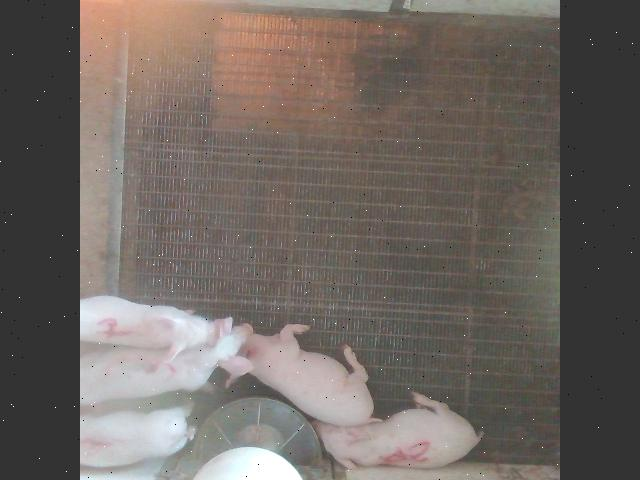pig-1: (81, 406, 195, 465)
pig-3: (82, 316, 252, 404)
pig-4: (82, 295, 221, 354)
pig-5: (314, 391, 482, 468)
